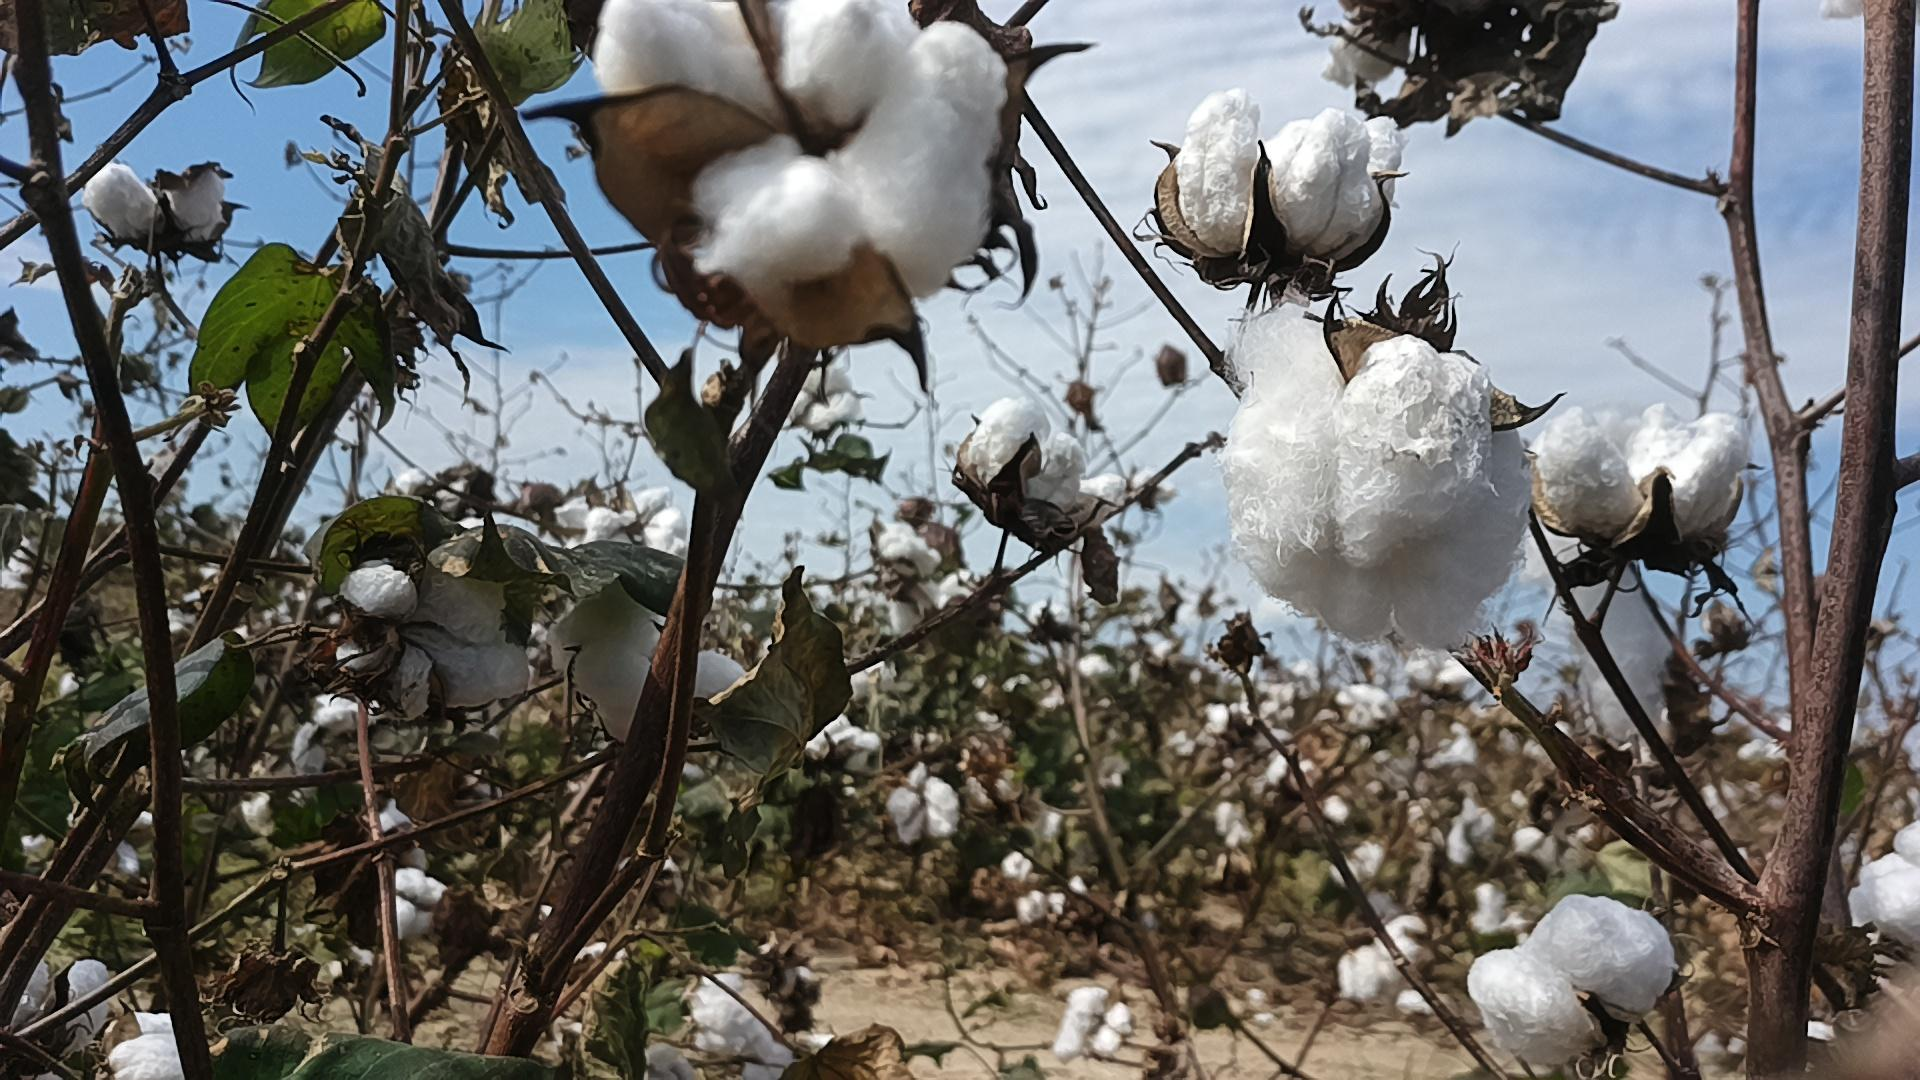cotton_ready: (593, 0, 1013, 306), (1234, 306, 1538, 649), (332, 527, 541, 731), (1174, 86, 1400, 261), (1469, 890, 1680, 1067), (547, 585, 756, 750), (1526, 521, 1673, 745), (1532, 407, 1753, 543), (960, 400, 1127, 546), (638, 971, 843, 1080), (86, 160, 231, 253), (0, 952, 117, 1055), (1847, 815, 1920, 951), (104, 1006, 193, 1080)
